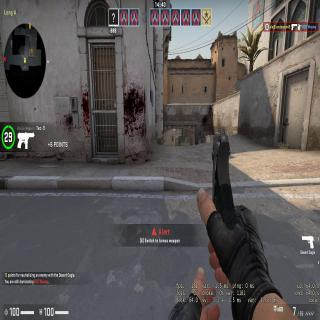CT-Body: (171, 134, 174, 142)
CT-Head: (172, 135, 173, 136)
